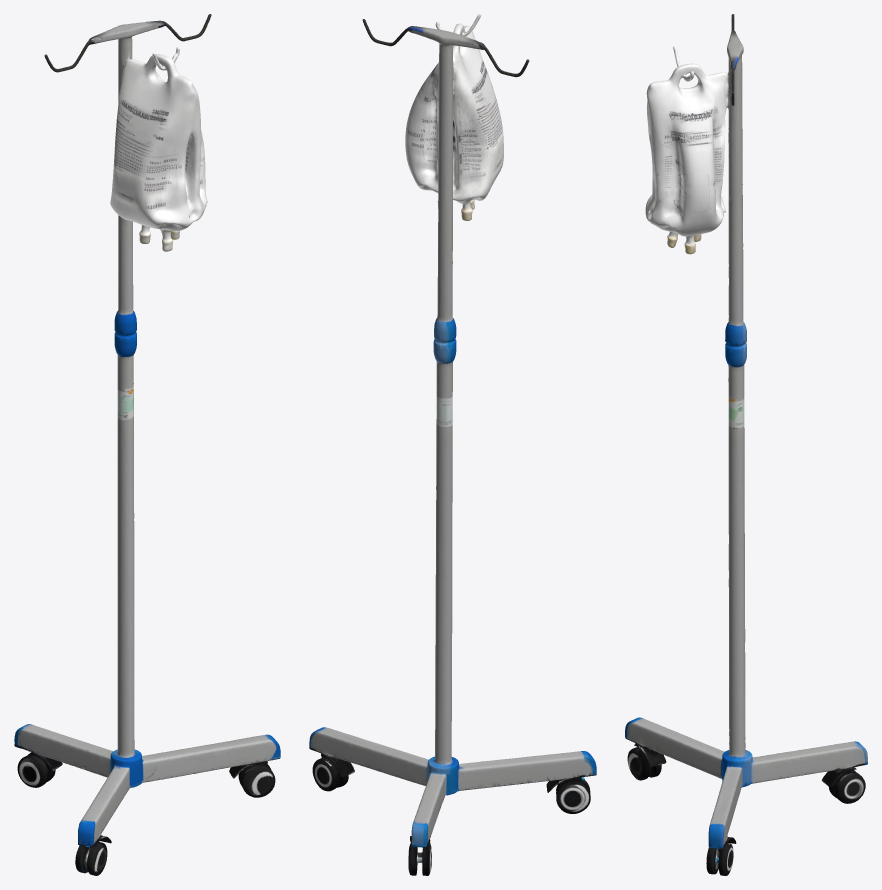
The model's file is Meshy_AI_IV_pole_0603220814_texture.fbx.
3 views of the same model, side by side, from view 1: azimuth 30°, elevation 25°; view 2: azimuth 150°, elevation 25°; view 3: azimuth 270°, elevation 25° (orthographic). The views are drawn at different scales.
Visible parts, largest first — view 1: Mesh_0; view 2: Mesh_0; view 3: Mesh_0.
Part boxes in pixels (x1=…): Mesh_0: x1=14, y1=14, x2=280, y2=875; Mesh_0: x1=309, y1=14, x2=596, y2=875; Mesh_0: x1=625, y1=14, x2=867, y2=875.
Size of the model in its own units: 60.93 by 190 by 54.3.
1 material, 1 textured.
